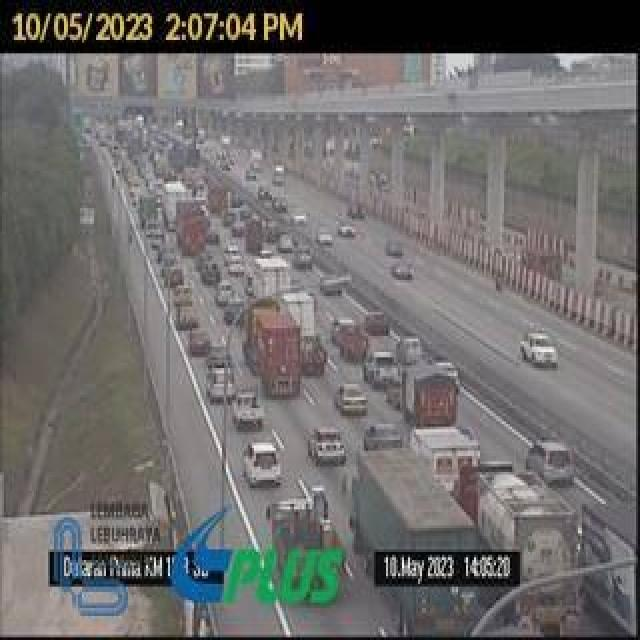Car: (525, 443, 577, 486), (242, 441, 281, 485), (521, 331, 560, 369), (362, 350, 400, 388), (308, 426, 344, 464), (230, 392, 266, 429), (363, 423, 401, 449), (207, 366, 234, 401), (336, 382, 366, 413), (361, 311, 392, 337), (185, 327, 210, 353), (222, 295, 246, 322), (316, 274, 344, 297), (215, 284, 235, 308), (222, 243, 242, 265), (315, 224, 334, 247), (391, 262, 414, 280), (166, 266, 183, 290), (384, 238, 402, 256), (289, 209, 308, 225), (339, 220, 356, 237), (226, 260, 243, 275)
Truck: (341, 448, 484, 640), (454, 458, 579, 636), (576, 496, 640, 640), (267, 486, 343, 594), (408, 422, 484, 492), (254, 311, 306, 400), (402, 360, 458, 426), (241, 296, 279, 366), (253, 252, 293, 307), (174, 197, 210, 256), (281, 290, 319, 344), (160, 178, 188, 230), (250, 146, 262, 172)
Van: (395, 335, 421, 367)
